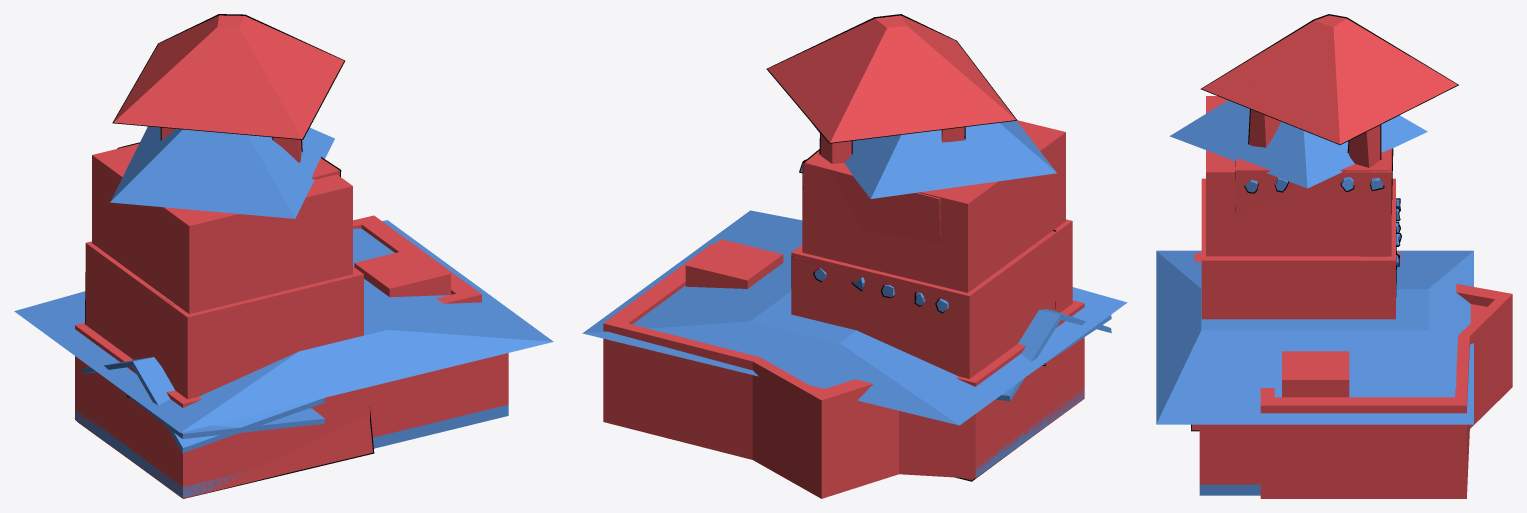
File: Houses.fbx
3 views of the same model, side by side, from view 1: azimuth 30°, elevation 25°; view 2: azimuth 150°, elevation 25°; view 3: azimuth 270°, elevation 25° (orthographic). The views are drawn at different scales.
Parts seen in each view (by area): view 1: House.002, House, House.003, House.005, House.004, House.006, House.001; view 2: House.002, House, House.006, House.003, House.005, House.004; view 3: House, House.002, House.006, House.003, House.005.
Boxes of the visible parts, left/top/right/bottom form: House.002: left=85, top=126, right=363, bottom=399; House: left=14, top=220, right=553, bottom=498; House.003: left=77, top=14, right=374, bottom=498; House.005: left=75, top=322, right=508, bottom=497; House.004: left=82, top=357, right=324, bottom=498; House.006: left=353, top=215, right=481, bottom=303; House.001: left=109, top=381, right=324, bottom=498; House.002: left=791, top=120, right=1072, bottom=378; House: left=582, top=210, right=1127, bottom=478; House.006: left=603, top=239, right=898, bottom=498; House.003: left=766, top=14, right=1056, bottom=481; House.005: left=956, top=300, right=1084, bottom=477; House.004: left=996, top=309, right=1111, bottom=400; House: left=1156, top=250, right=1473, bottom=498; House.002: left=1170, top=96, right=1427, bottom=319; House.006: left=1260, top=284, right=1512, bottom=498; House.003: left=1191, top=14, right=1458, bottom=431; House.005: left=1194, top=253, right=1400, bottom=495.
Size of the model in its own units: 1466 by 1503 by 1268.
